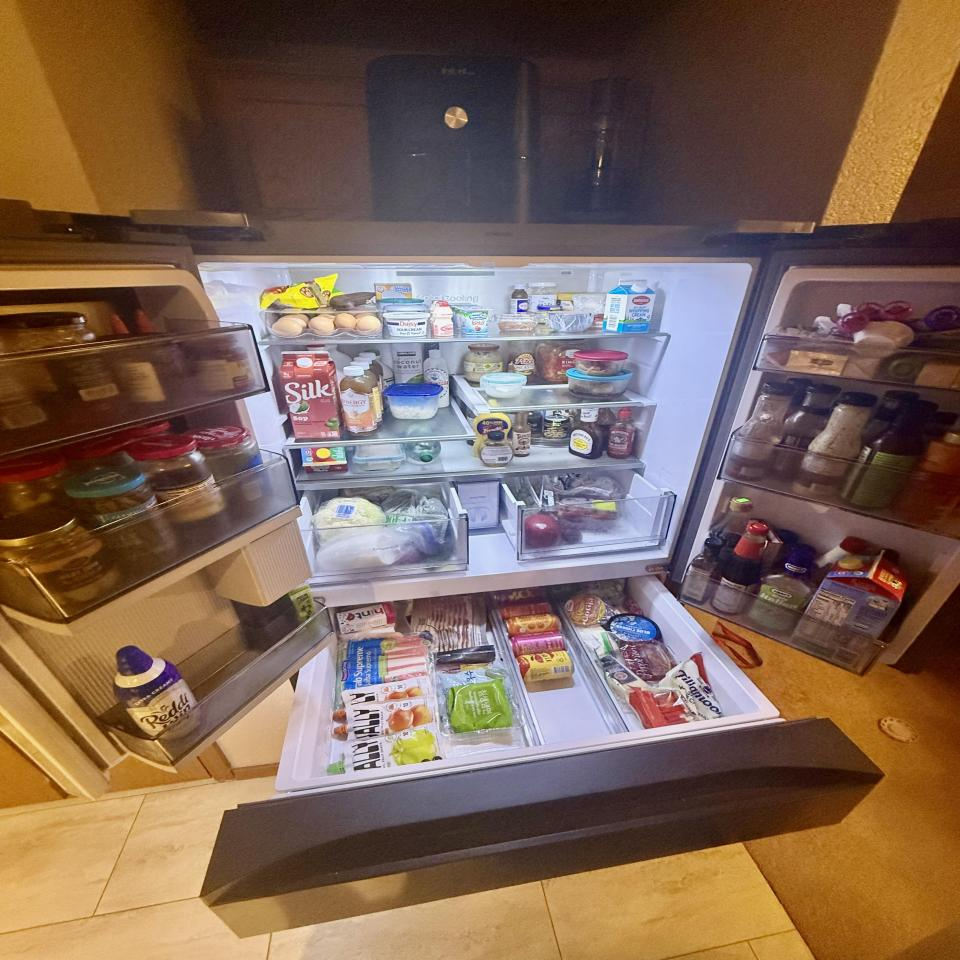Huevos: (265, 310, 383, 340)
Leche: (790, 551, 914, 669)
Mantequilla: (786, 349, 848, 376)
Manzana: (524, 514, 561, 549)
mustard: (472, 399, 513, 458)
